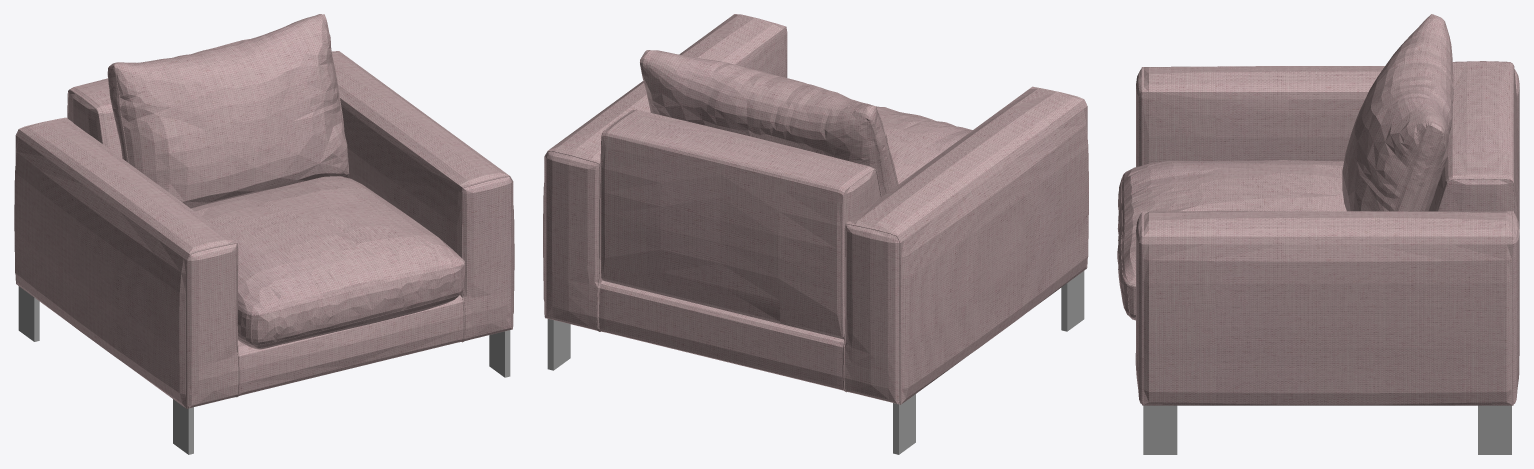
3 renders of one model, left to right at view 1: azimuth 30°, elevation 25°; view 2: azimuth 150°, elevation 25°; view 3: azimuth 270°, elevation 25°, orthographic. The views are drawn at different scales.
Visible parts, largest first — view 1: mesh_0_ROOT__06_Linteloo_Plaza_armchair__3DGeom~1_Layer0, mesh_1_ROOT__06_Linteloo_Plaza_armchair__3DGeom~2_Layer0; view 2: mesh_0_ROOT__06_Linteloo_Plaza_armchair__3DGeom~1_Layer0, mesh_1_ROOT__06_Linteloo_Plaza_armchair__3DGeom~2_Layer0; view 3: mesh_0_ROOT__06_Linteloo_Plaza_armchair__3DGeom~1_Layer0, mesh_1_ROOT__06_Linteloo_Plaza_armchair__3DGeom~2_Layer0.
Boxes of the visible parts, box(x1,y1,x2,y2) form: mesh_0_ROOT__06_Linteloo_Plaza_armchair__3DGeom~1_Layer0: box(14, 14, 514, 408); mesh_1_ROOT__06_Linteloo_Plaza_armchair__3DGeom~2_Layer0: box(18, 286, 510, 454); mesh_0_ROOT__06_Linteloo_Plaza_armchair__3DGeom~1_Layer0: box(543, 14, 1088, 404); mesh_1_ROOT__06_Linteloo_Plaza_armchair__3DGeom~2_Layer0: box(547, 271, 1084, 454); mesh_0_ROOT__06_Linteloo_Plaza_armchair__3DGeom~1_Layer0: box(1117, 14, 1519, 405); mesh_1_ROOT__06_Linteloo_Plaza_armchair__3DGeom~2_Layer0: box(1143, 405, 1511, 454).
Size of the model in its own units: 1130 by 883 by 1066.
Materials: 2 (1 with a texture image).
